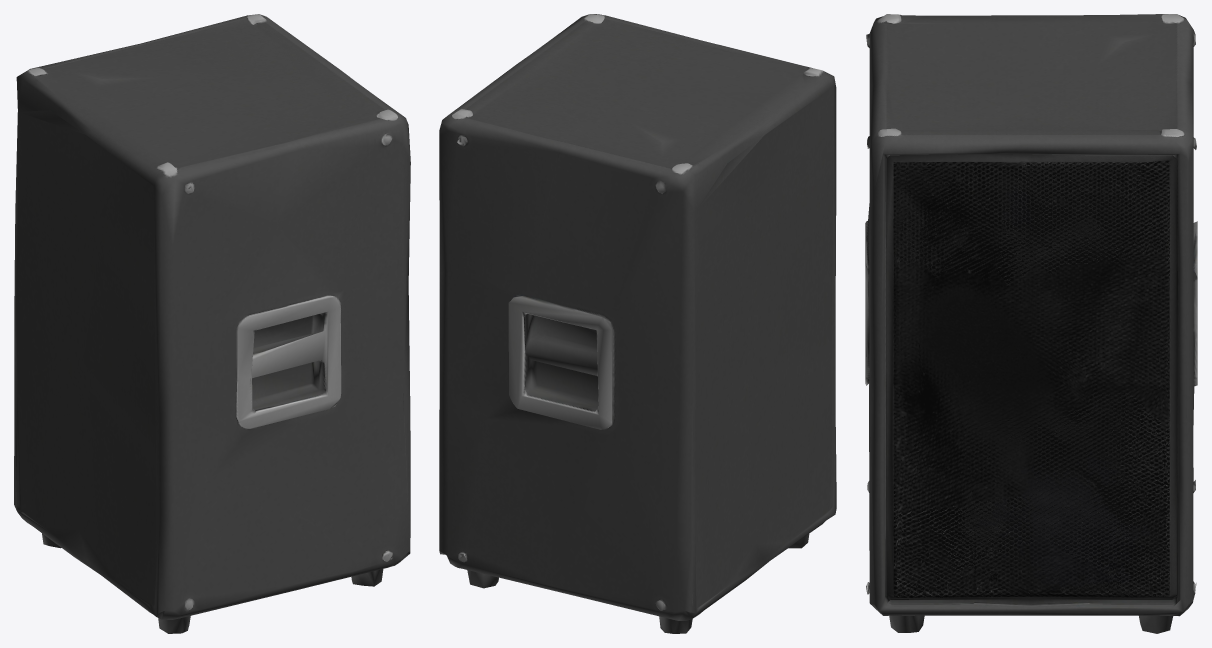
File: subwoofer_3d_model.fbx
3 views of the same model, side by side, from view 1: azimuth 30°, elevation 25°; view 2: azimuth 150°, elevation 25°; view 3: azimuth 270°, elevation 25° (orthographic). The views are drawn at different scales.
Parts seen in each view (by area): view 1: tripo_node_0e7b7224; view 2: tripo_node_0e7b7224; view 3: tripo_node_0e7b7224.
Part boxes in pixels (x1,y1,x2,y2): tripo_node_0e7b7224: [14, 14, 410, 633]; tripo_node_0e7b7224: [439, 14, 836, 633]; tripo_node_0e7b7224: [865, 14, 1197, 633].
Size of the model in its own units: 0.552 by 0.9792 by 0.5856.
